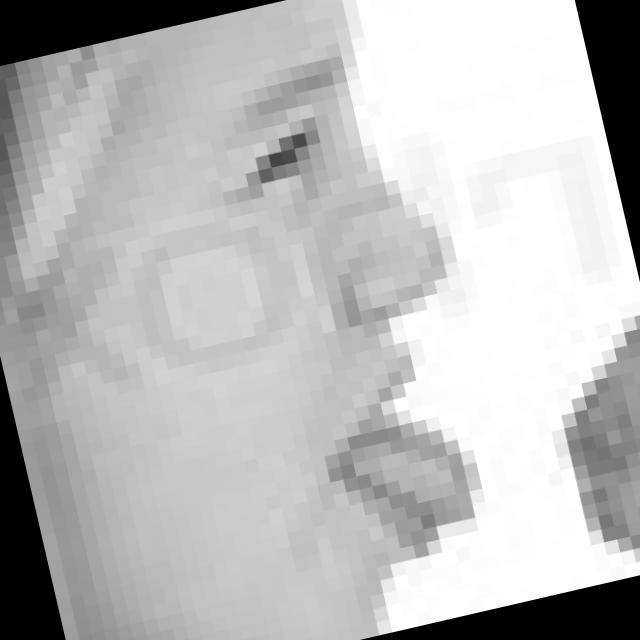disgust: (182, 0, 529, 640)
